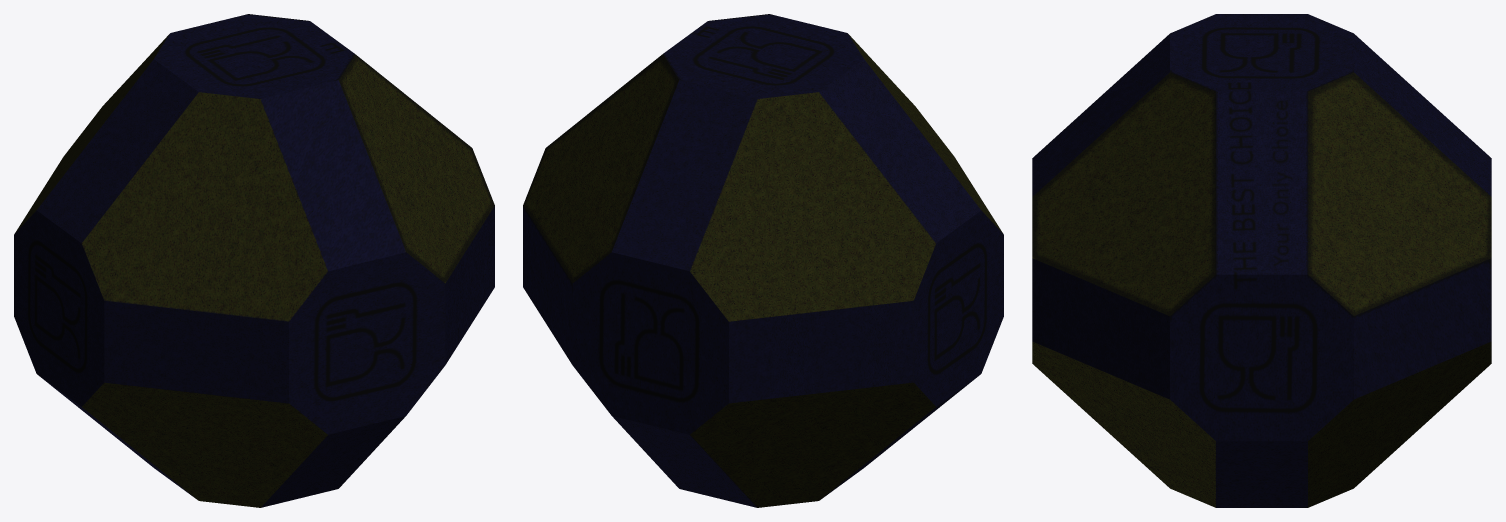
File: gourmet-food.glb
3 renders of one model, left to right at view 1: azimuth 30°, elevation 25°; view 2: azimuth 150°, elevation 25°; view 3: azimuth 270°, elevation 25°, orthographic.
Visible parts, largest first — view 1: gourmet-food; view 2: gourmet-food; view 3: gourmet-food.
Boxes of the visible parts, <box> form: gourmet-food: <box>14,14,494,507</box>; gourmet-food: <box>523,14,1003,507</box>; gourmet-food: <box>1032,14,1491,507</box>.
Bounding box in the file's own units: 1 × 1 × 1.
1 material, 1 textured.
